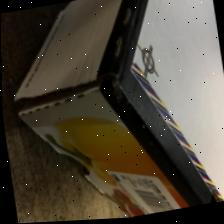cardboard: (8, 0, 224, 224)
